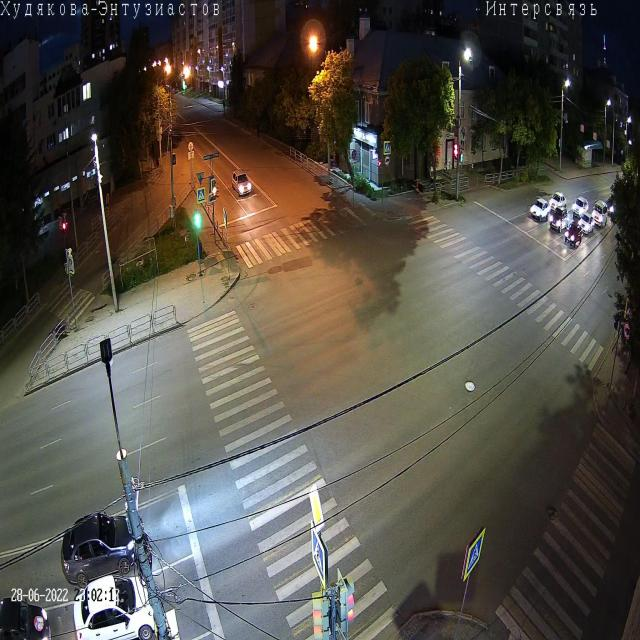car: (62, 509, 140, 590), (73, 570, 163, 640), (0, 596, 52, 640), (231, 168, 252, 197), (549, 205, 569, 233), (591, 198, 608, 228), (564, 220, 582, 248), (530, 198, 551, 222), (577, 211, 595, 236), (572, 195, 588, 221), (549, 191, 567, 214), (604, 196, 620, 218)
pedestrian: (260, 120, 264, 139), (256, 120, 260, 138), (222, 100, 225, 116)
